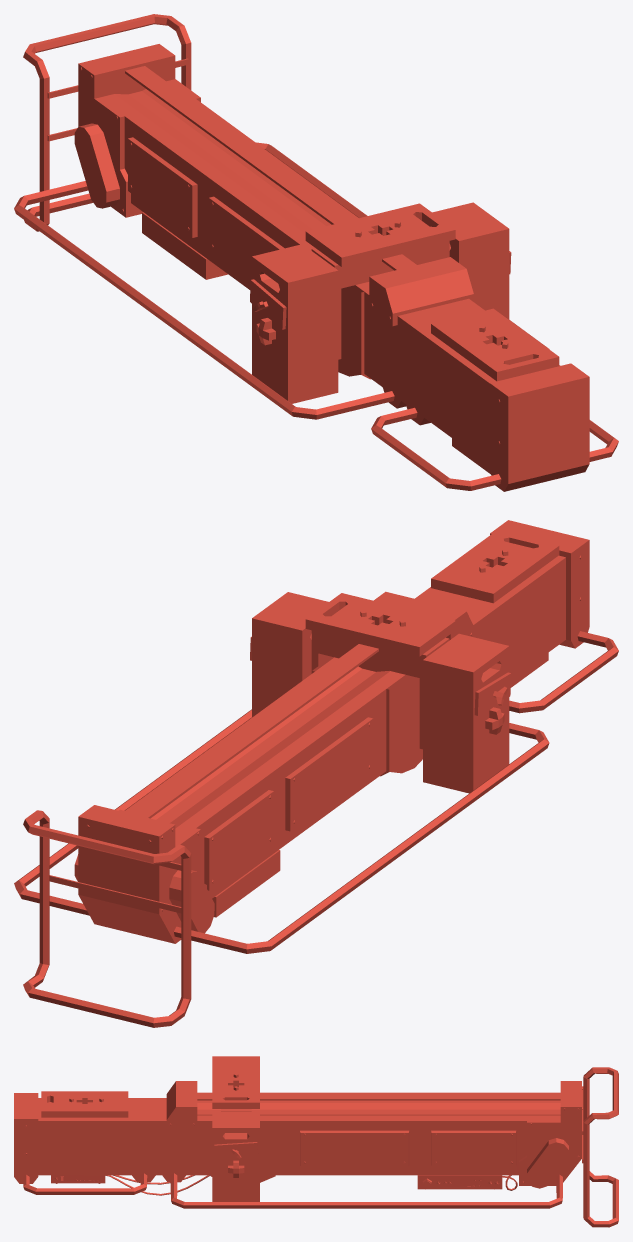
File: SM_Camera_Crane_Arm_A.fbx
The picture shows the model from 3 angles, top to bottom: view 1: azimuth 30°, elevation 25°; view 2: azimuth 150°, elevation 25°; view 3: azimuth 270°, elevation 25°; orthographic projection. The views are drawn at different scales.
Parts seen in each view (by area): view 1: SM_Camera_Crane_Arm_A; view 2: SM_Camera_Crane_Arm_A; view 3: SM_Camera_Crane_Arm_A.
Part boxes in pixels (x1,y1,x2,y2): SM_Camera_Crane_Arm_A: (14,14,618,491); SM_Camera_Crane_Arm_A: (14,520,618,1027); SM_Camera_Crane_Arm_A: (14,1056,618,1227).
Bounding box in the file's own units: 388 × 126 × 86.55.
